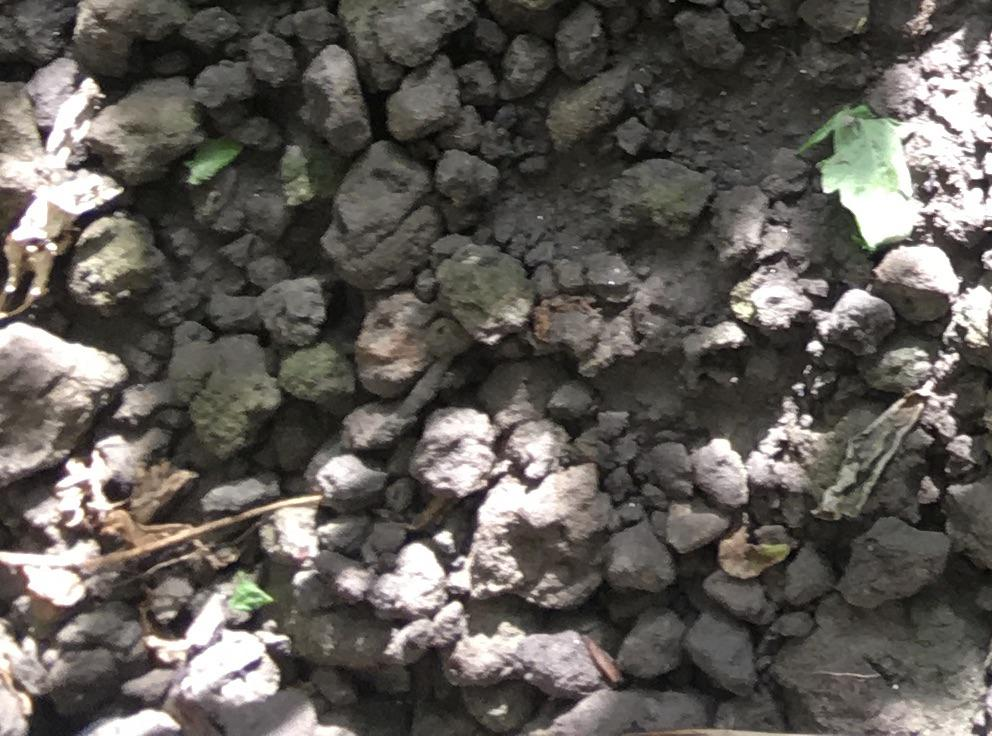block: (463, 464, 612, 618), (1, 320, 129, 486), (319, 136, 444, 293), (81, 76, 207, 190)
